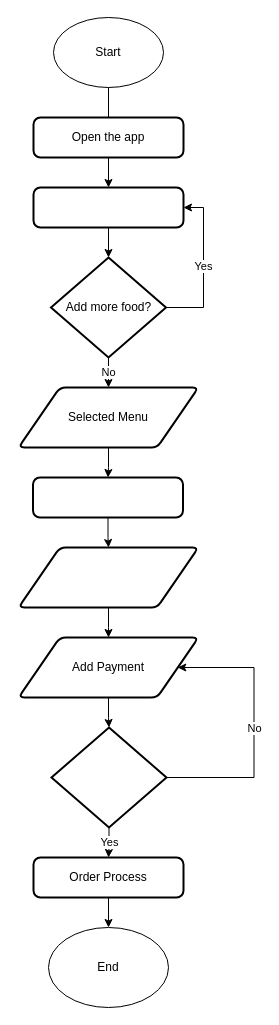
This 279x1025 diagram has some shape labels left out. The shapes that lost their labels are listed below. From the top down, each one's centre as x and y in pixels, then its label:
At (x=108, y=207): "Choose menu".
At (x=108, y=497): "Total cost".
At (x=108, y=577): "Add Address".
At (x=108, y=777): "Payment Succes?".
